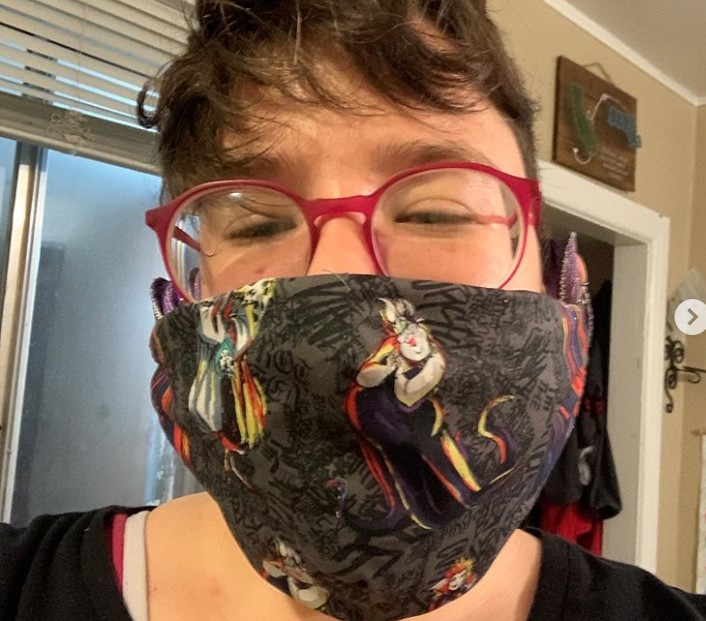face_with_mask: (156, 49, 550, 591)
